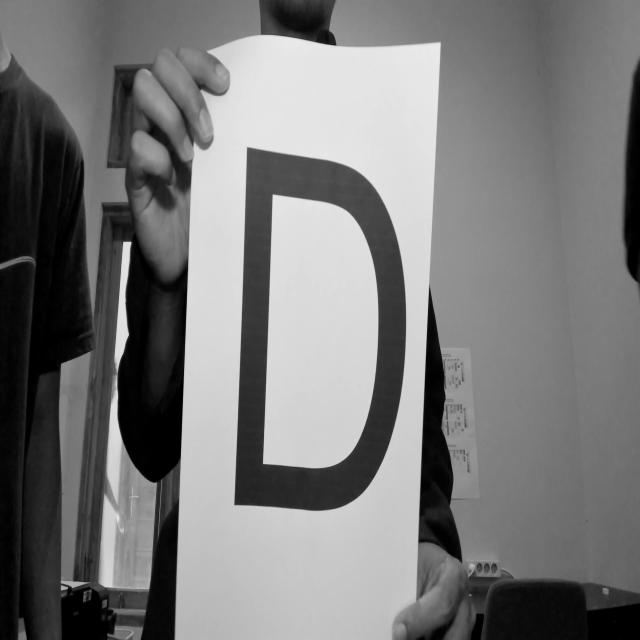d: (221, 132, 414, 526)
